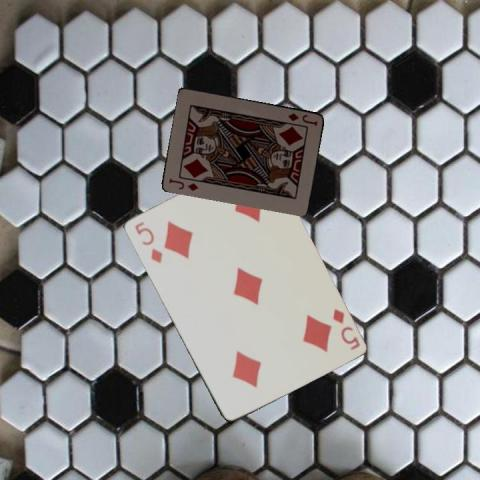5d: (131, 218, 164, 265), (329, 305, 361, 352)
Jd: (284, 110, 318, 128), (166, 175, 200, 192)
